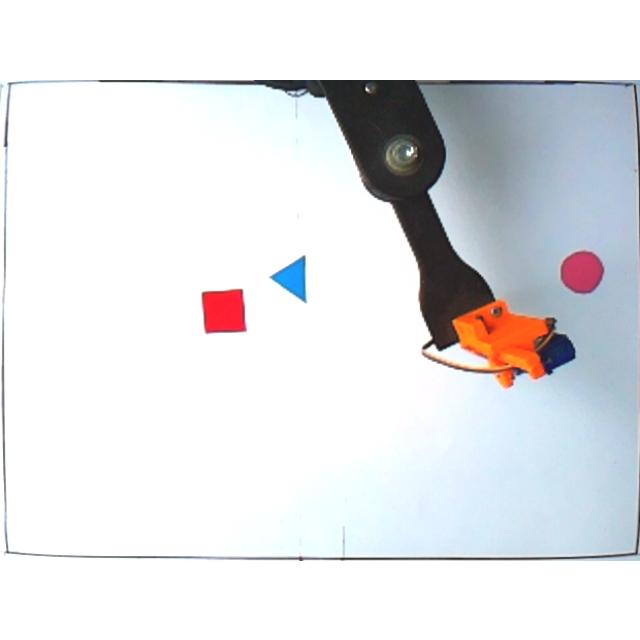blueTriangle: (270, 252, 308, 304)
pinkCircle: (560, 248, 604, 294)
redSquare: (200, 286, 248, 334)
